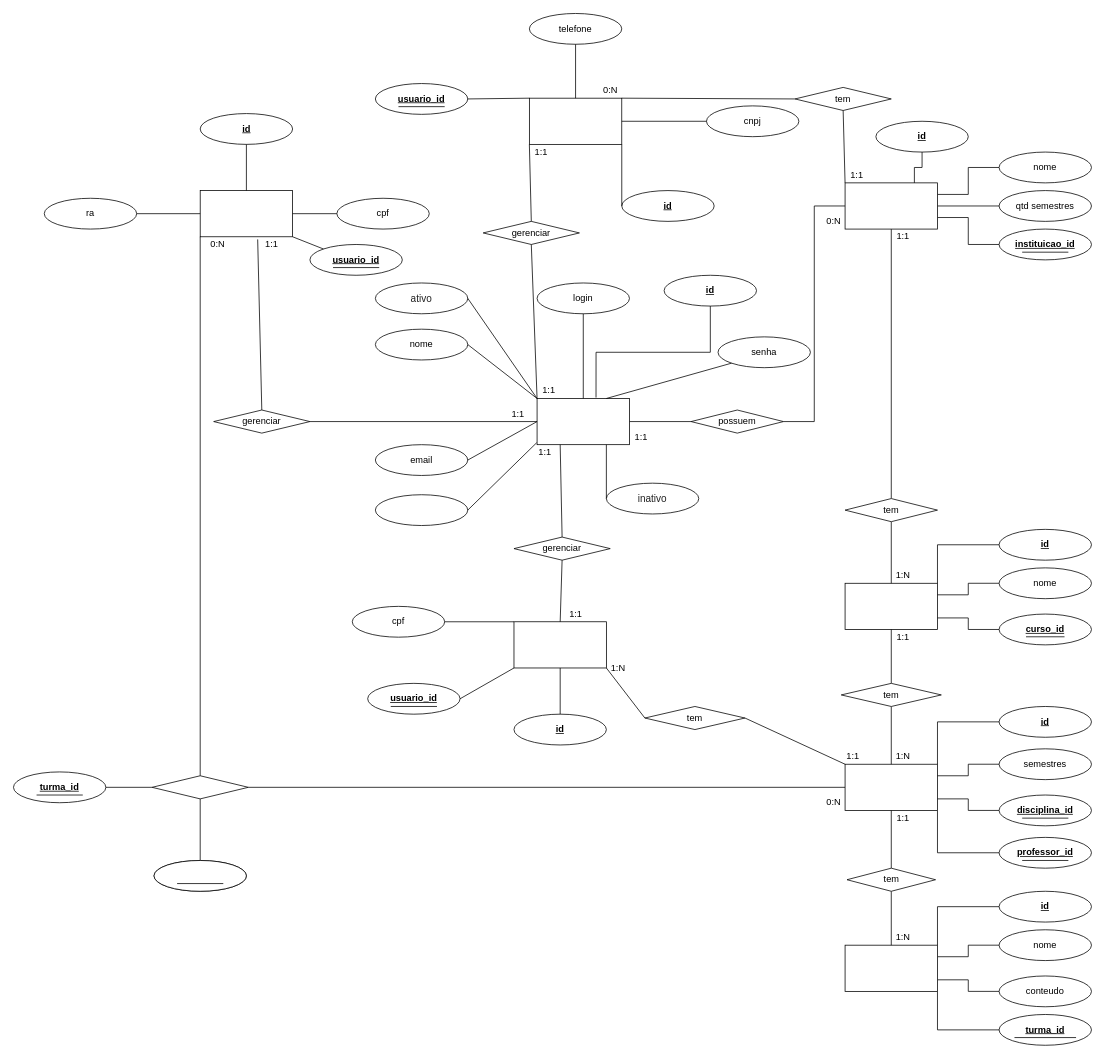
Some shapes in this 1105 by 1059 pixel diagram are drawn without their labels. Here are the shapes that lost their labels. From the top down, the centre of each, then its label:
[575,120]: instituicao
[246,213]: aluno
[890,205]: cursos
[582,421]: usuarios
[421,510]: bloqueado
[890,606]: disciplinas
[559,644]: professor
[199,787]: participam
[890,786]: turmas
[199,875]: aluno_id
[890,967]: aulas
